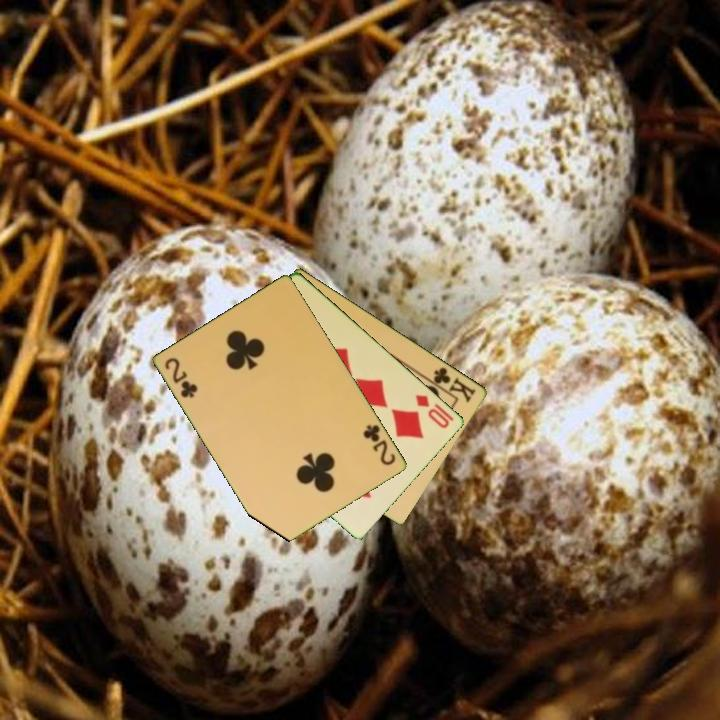10d: (412, 391, 457, 431)
2c: (360, 421, 399, 468), (162, 354, 201, 401)
Kc: (424, 363, 479, 405)
